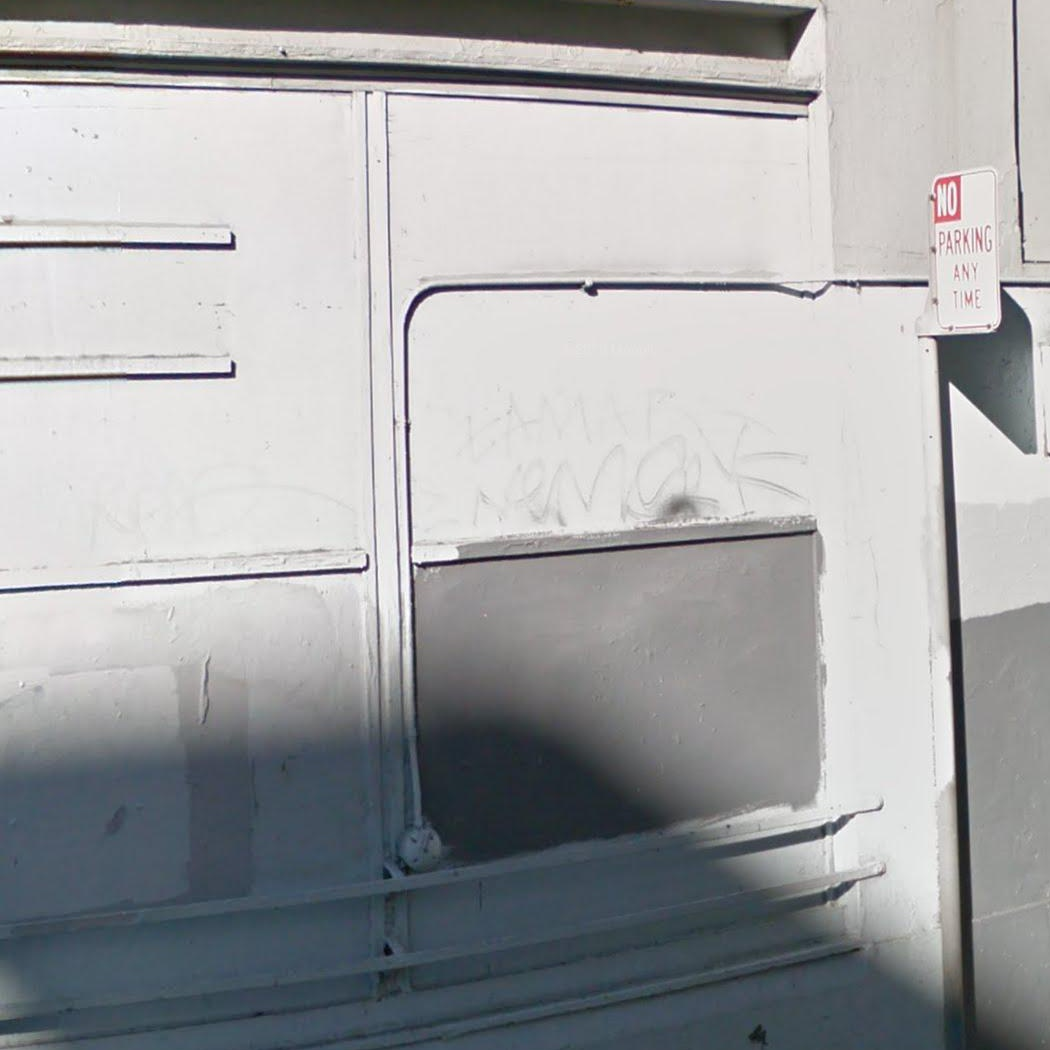No Parking Anytime: (929, 170, 1004, 333)
